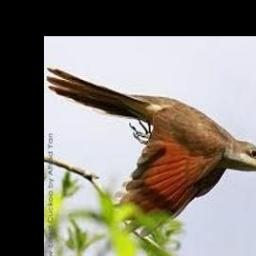Cuckoo: (47, 67, 256, 236)
